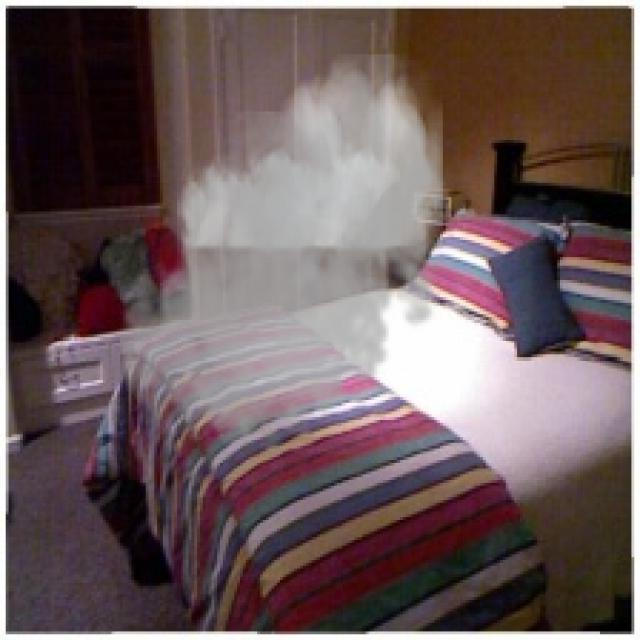Smoke: (112, 54, 457, 463)
